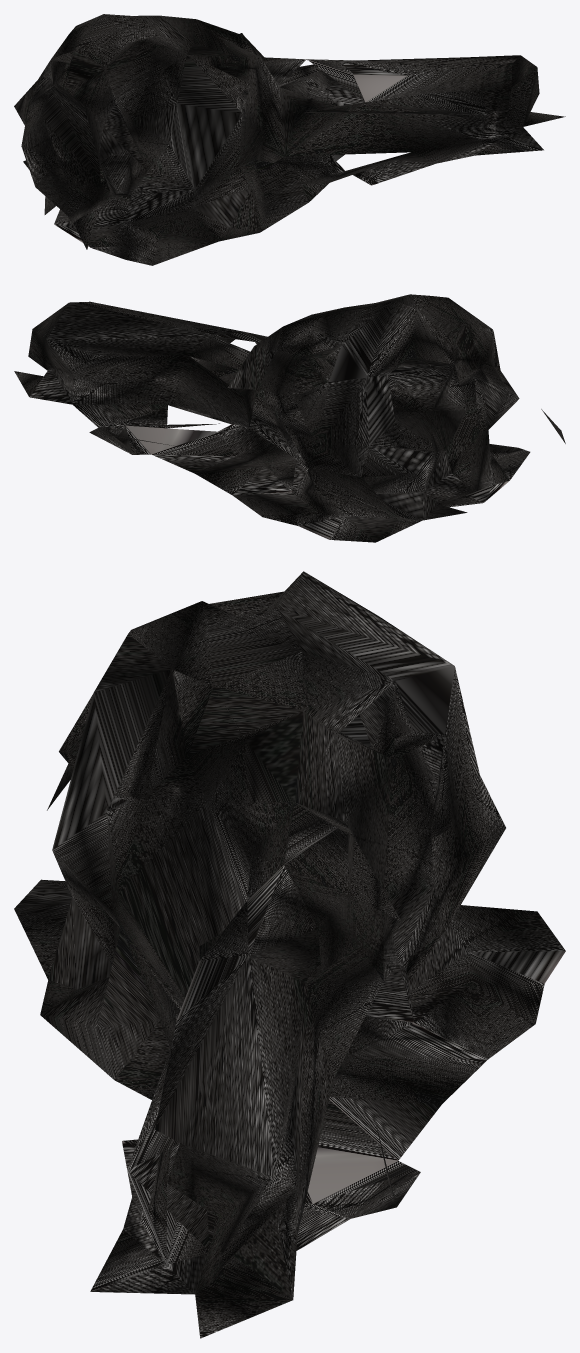
Rendered from strattip.glb.
The picture shows the model from 3 angles, top to bottom: view 1: azimuth 30°, elevation 25°; view 2: azimuth 150°, elevation 25°; view 3: azimuth 270°, elevation 25°; orthographic projection. The views are drawn at different scales.
Parts seen in each view (by area): view 1: strattip; view 2: strattip; view 3: strattip.
Boxes of the visible parts, <box> form: strattip: <box>14,14,565,265</box>; strattip: <box>14,294,565,542</box>; strattip: <box>14,571,565,1338</box>.
Size of the model in its own units: 52.49 by 18.29 by 25.07.
1 material, 1 textured.
